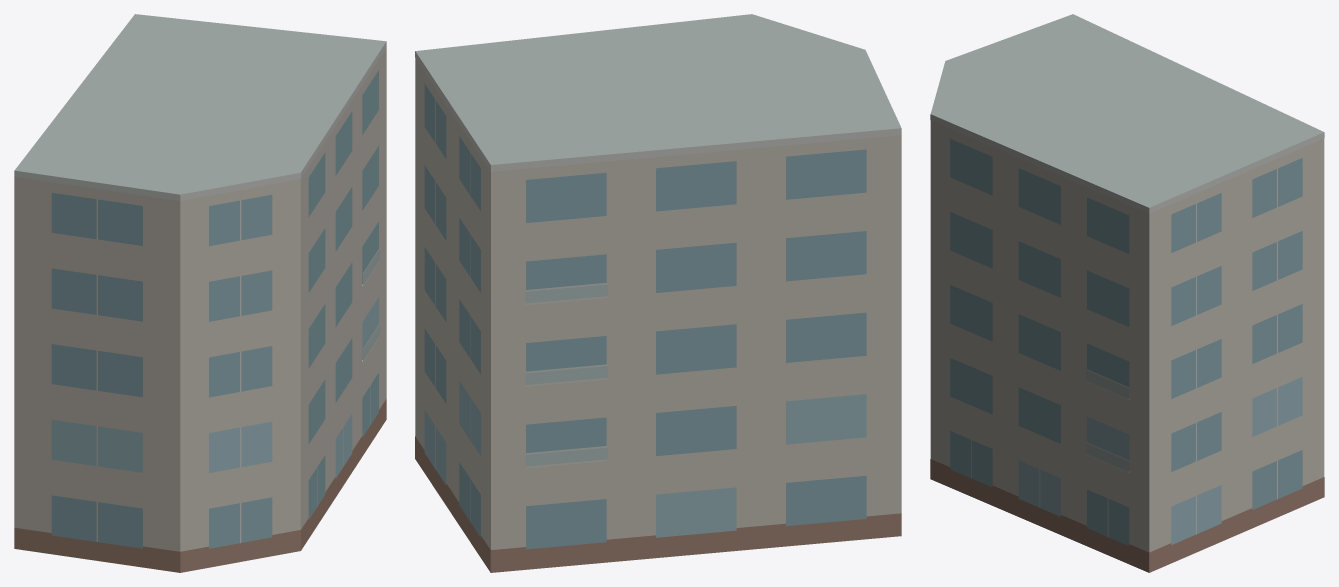
The model's file is survey-upis-32969896.glb.
3 views of the same model, side by side, from view 1: azimuth 30°, elevation 25°; view 2: azimuth 150°, elevation 25°; view 3: azimuth 270°, elevation 25° (orthographic). The views are drawn at different scales.
Visible parts, largest first — view 1: survey-upis-32969896.tmp; view 2: survey-upis-32969896.tmp; view 3: survey-upis-32969896.tmp.
Part boxes in pixels (bbox=[...]): survey-upis-32969896.tmp: bbox=[14, 14, 386, 572]; survey-upis-32969896.tmp: bbox=[415, 14, 901, 572]; survey-upis-32969896.tmp: bbox=[930, 14, 1324, 572].
Size of the model in its own units: 16.75 by 14.7 by 14.38.
